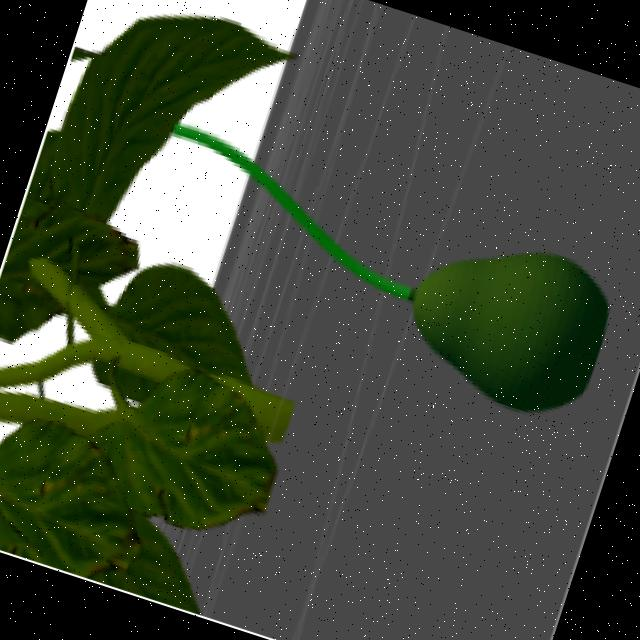fruit: (413, 247, 614, 415)
leaf: (49, 18, 302, 226)
peduncle: (171, 122, 420, 304)
